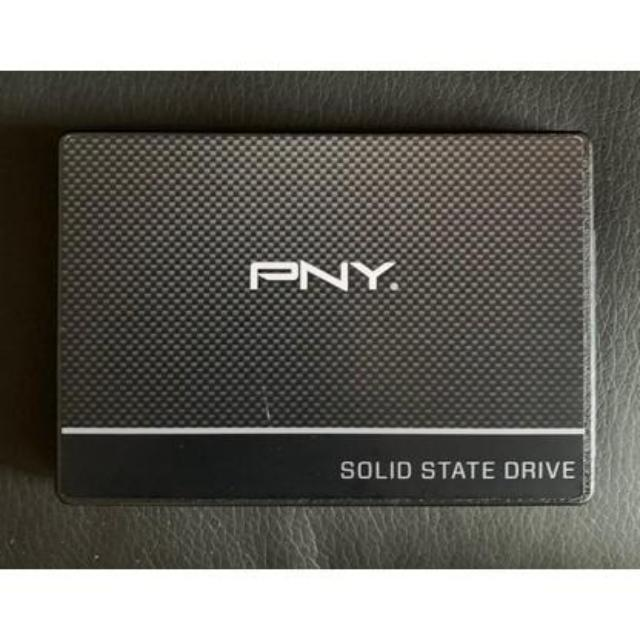DISK: (44, 131, 602, 514)
